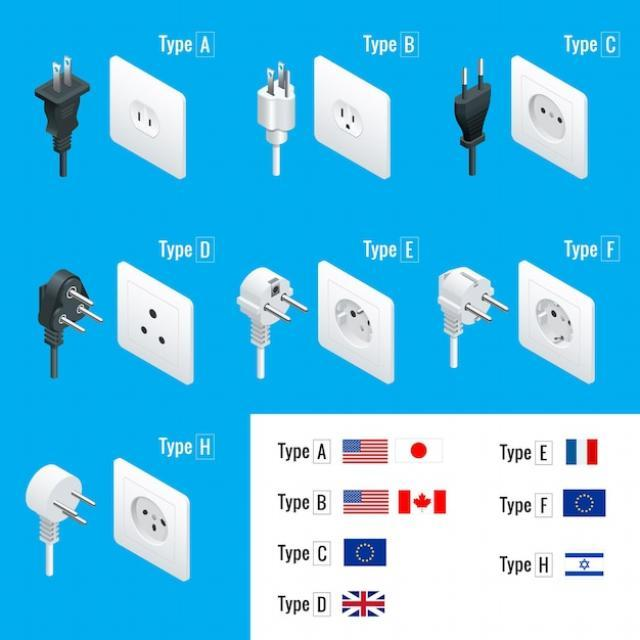typeb: (503, 244, 614, 386)
